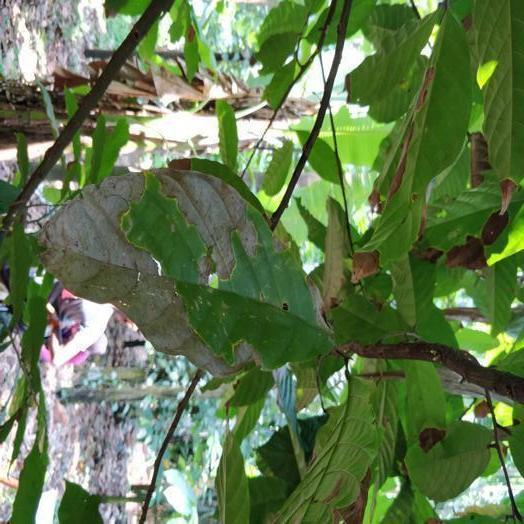Potassium: (42, 168, 333, 374)
